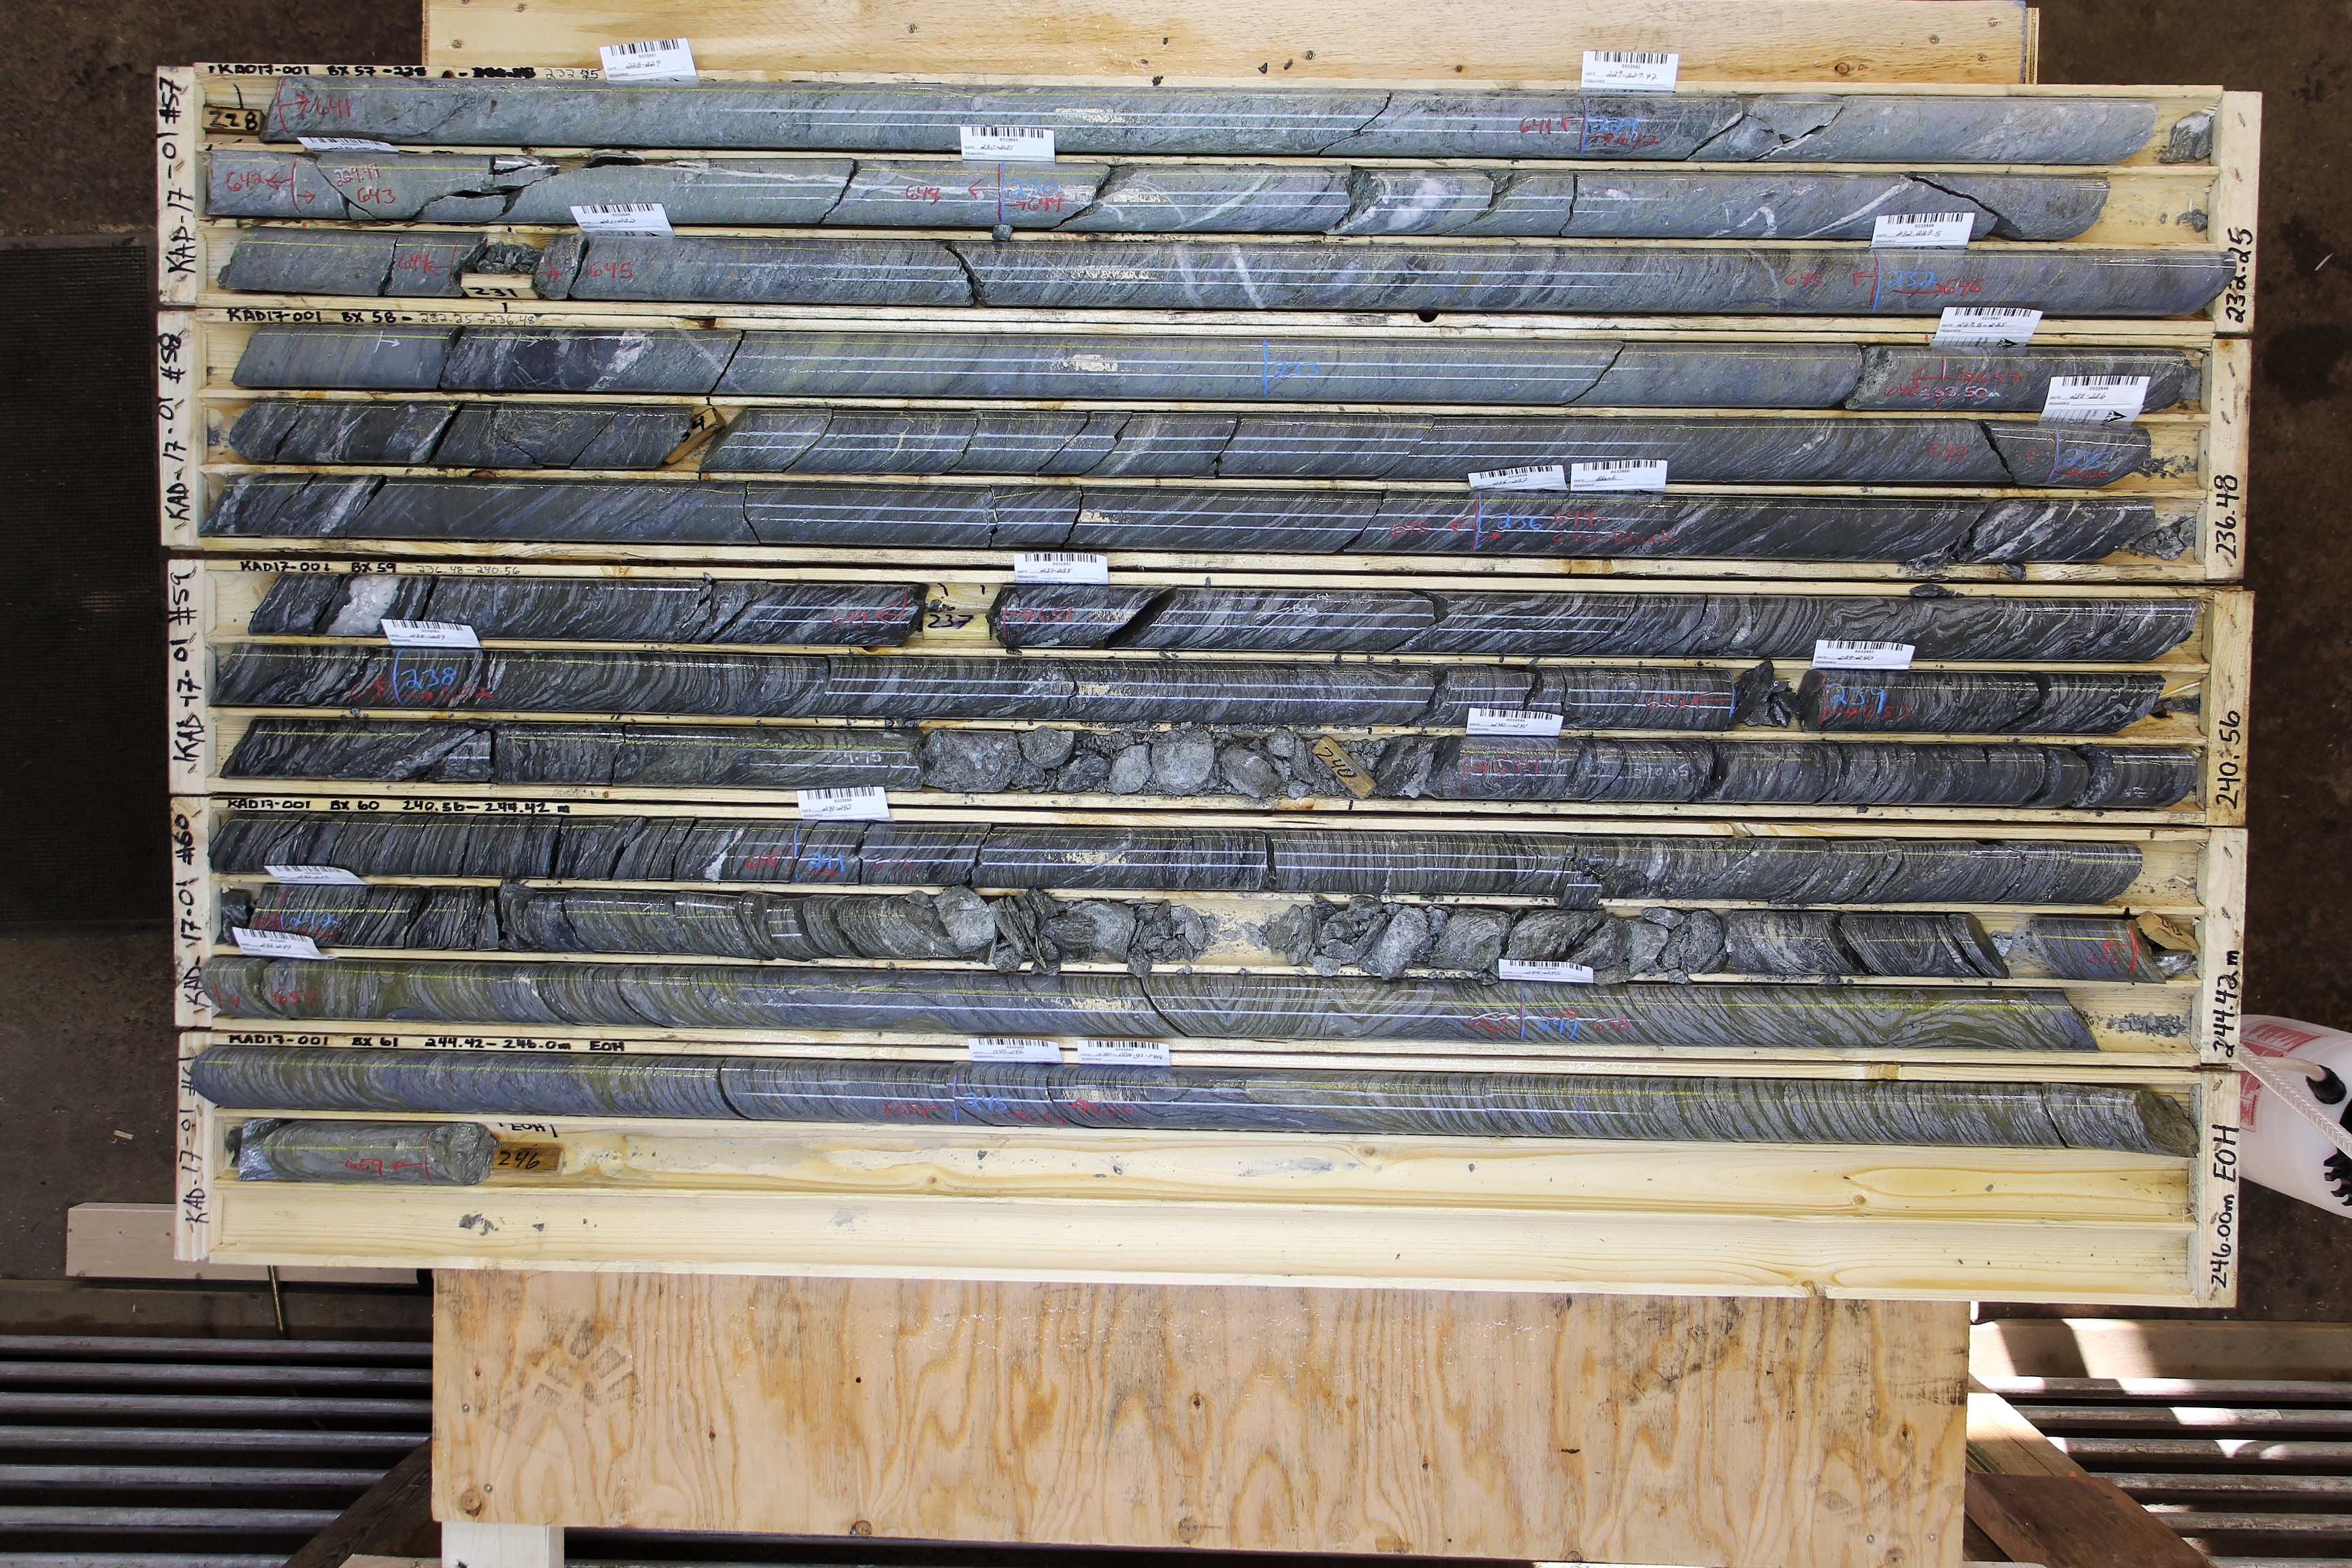rock-KAD17_001-228.00-229: (287, 84, 1581, 157)
rock-KAD17_001-229-229x: (1585, 99, 2160, 160)
rock-KAD17_001-229x-230: (209, 157, 1001, 221)
rock-KAD17_001-230-230x: (1004, 167, 2109, 236)
rock-KAD17_001-230x-231: (233, 232, 464, 296)
rock-KAD17_001-231-232: (551, 231, 1875, 321)
rock-KAD17_001-232-232x: (1877, 252, 2222, 316)
rock-KAD17_001-232x-233: (246, 328, 1267, 399)
rock-KAD17_001-233-233x: (1267, 342, 2196, 408)
rock-KAD17_001-233x-234: (235, 401, 684, 466)
rock-KAD17_001-234-235: (717, 414, 2060, 484)
rock-KAD17_001-235-236: (210, 482, 1475, 551)
rock-KAD17_001-236-236x: (1480, 495, 2170, 565)
rock-KAD17_001-236x-237: (248, 576, 927, 645)
rock-KAD17_001-237-237x: (995, 589, 2195, 662)
rock-KAD17_001-237x-238: (222, 648, 394, 708)
rock-KAD17_001-238-239: (397, 652, 1730, 729)
rock-KAD17_001-239-239x: (1814, 671, 2159, 734)
rock-KAD17_001-239x-240: (225, 716, 1316, 798)
rock-KAD17_001-240-240x: (1406, 736, 2193, 808)
rock-KAD17_001-240x-241: (212, 813, 796, 879)
rock-KAD17_001-241-242: (796, 826, 2146, 902)
rock-KAD17_001-242-243: (289, 883, 2129, 977)
rock-KAD17_001-243-244: (214, 965, 1521, 1041)
rock-KAD17_001-244-244x: (1524, 986, 2102, 1048)
rock-KAD17_001-244x-245: (216, 1049, 957, 1122)
rock-KAD17_001-245-245x: (964, 1064, 2191, 1149)
rock-KAD17_001-245x-246: (247, 1122, 476, 1181)
